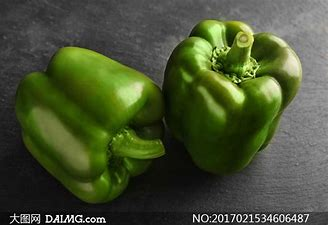fruit_pepper: (11, 43, 172, 206), (161, 16, 304, 176)
